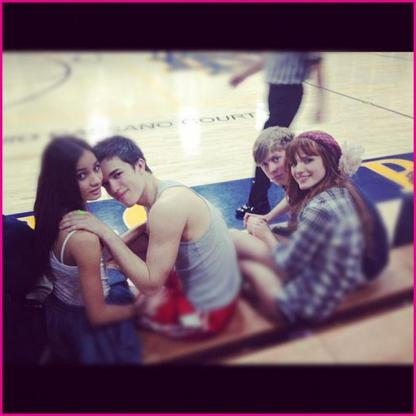face: (97, 161, 144, 207), (292, 140, 328, 191), (260, 141, 294, 189), (73, 153, 104, 198)
